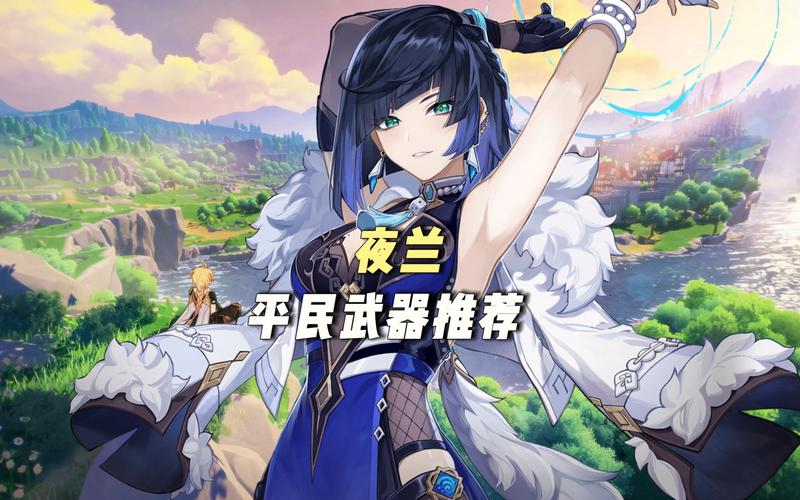夜兰: (251, 1, 724, 497)
